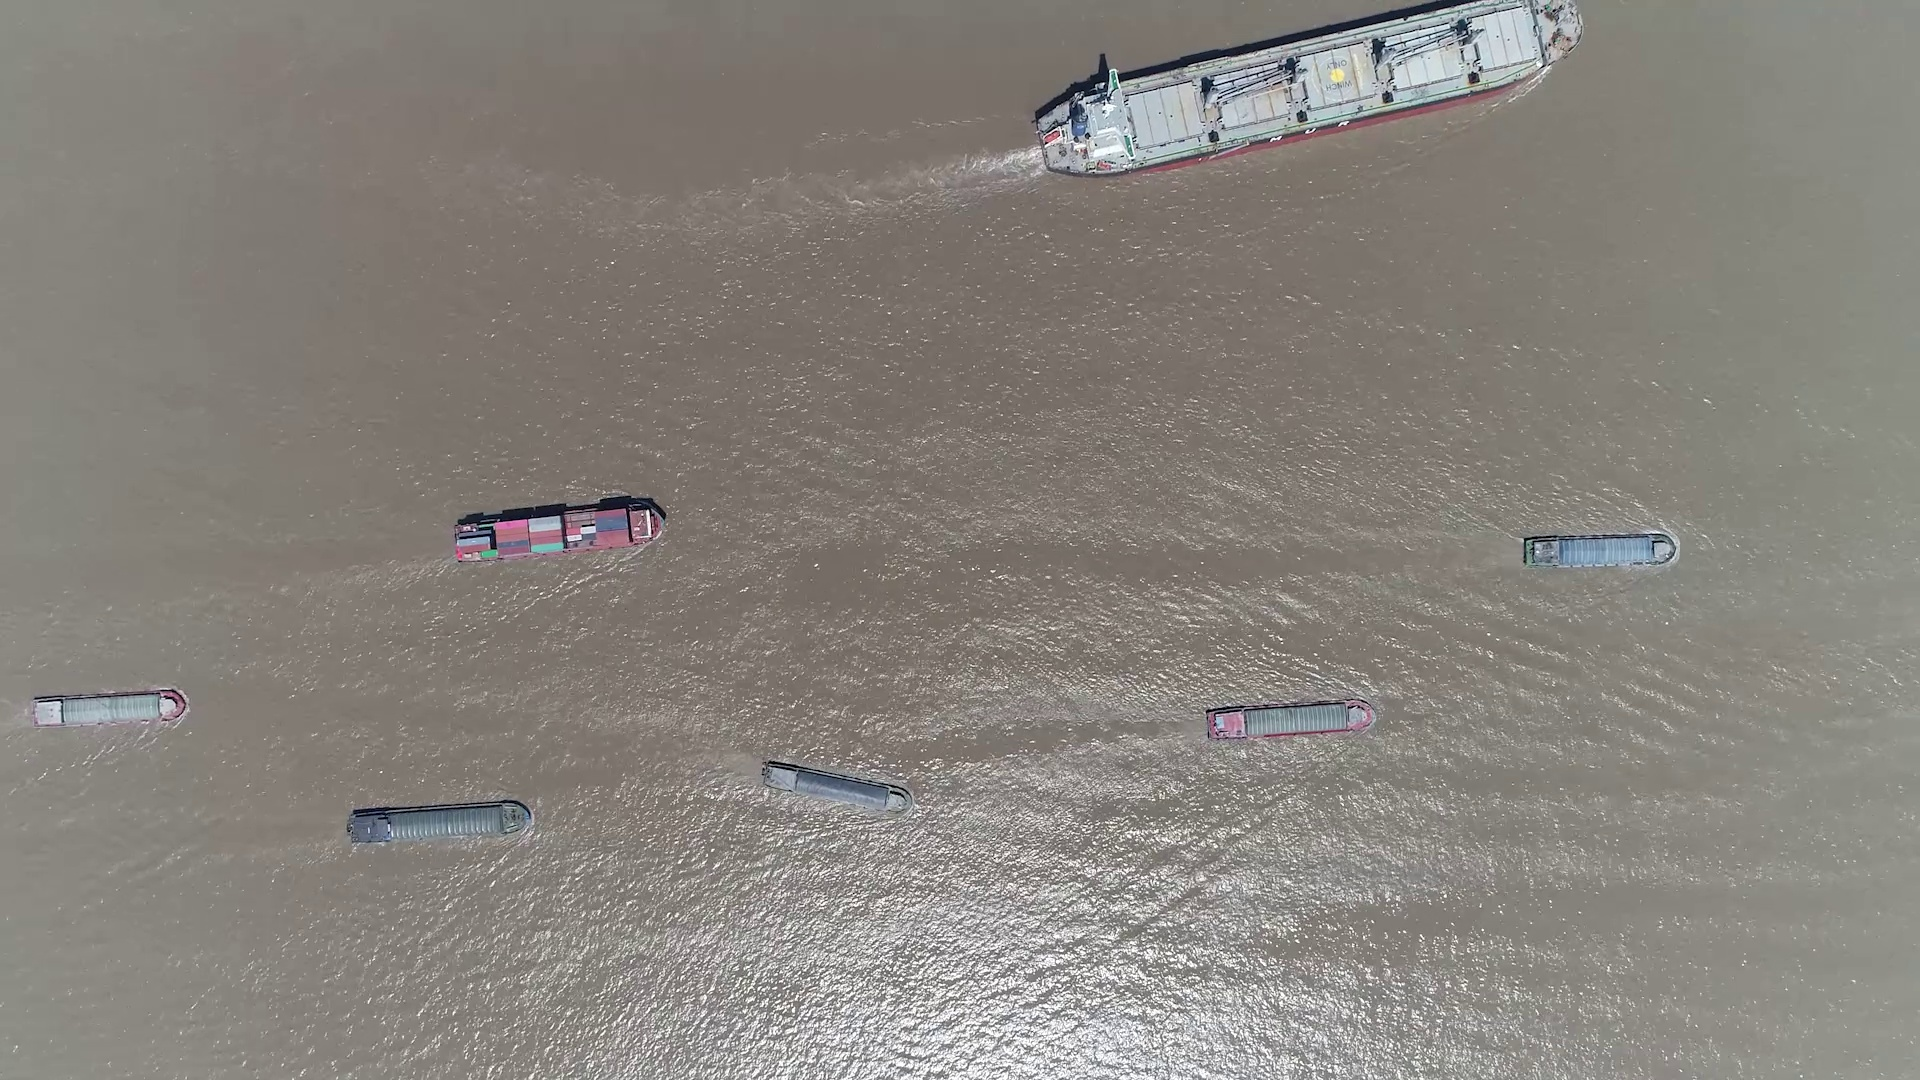ship: (1034, 3, 1581, 173), (452, 500, 663, 562), (760, 760, 910, 815), (348, 800, 531, 844), (1207, 700, 1378, 741), (28, 690, 187, 728), (1523, 531, 1677, 568)
